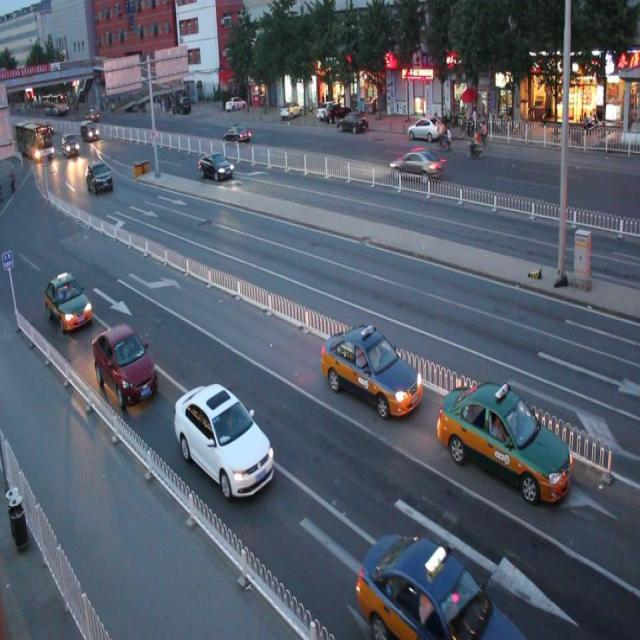car: (355, 527, 524, 640), (435, 379, 572, 503), (175, 381, 274, 495), (320, 322, 422, 418), (92, 324, 159, 405), (44, 275, 94, 329), (389, 146, 445, 181), (198, 151, 235, 180), (224, 124, 250, 144)
